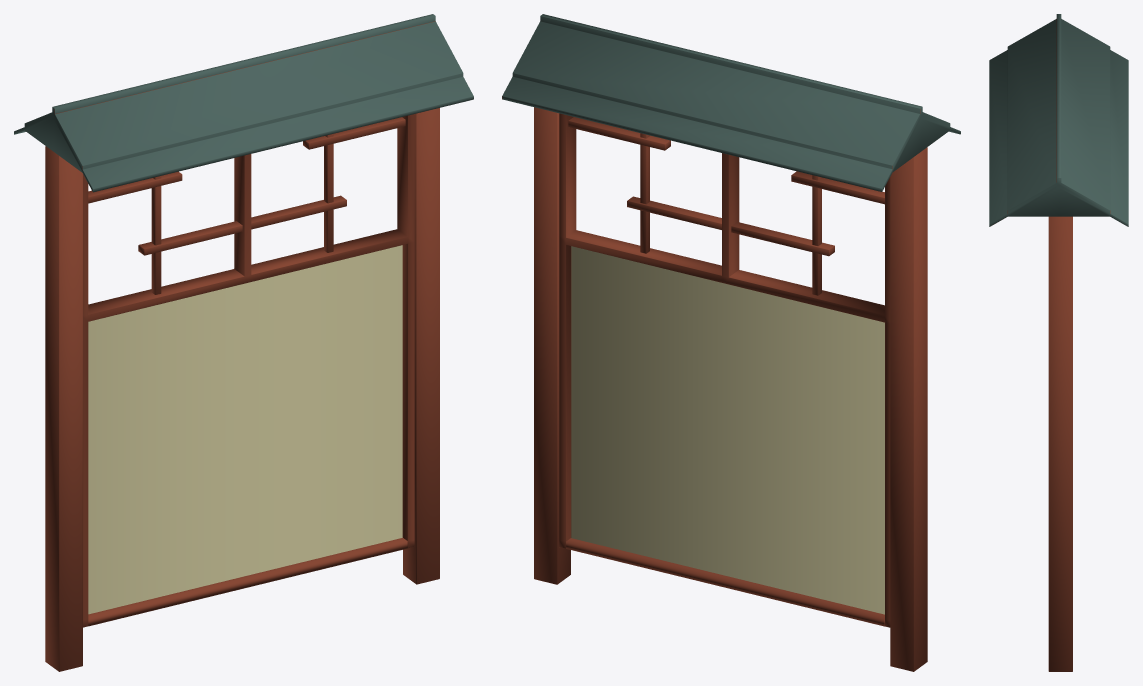
Rendered from GateWalls.fbx.
3 renders of one model, left to right at view 1: azimuth 30°, elevation 25°; view 2: azimuth 150°, elevation 25°; view 3: azimuth 270°, elevation 25°, orthographic. The views are drawn at different scales.
Visible parts, largest first — view 1: Cube.008; view 2: Cube.008; view 3: Cube.008.
Part boxes in pixels (bbox=[...]): Cube.008: bbox=[14, 14, 473, 671]; Cube.008: bbox=[502, 14, 960, 671]; Cube.008: bbox=[989, 14, 1128, 671].
Bounding box in the file's own units: 430 × 604 × 154.
